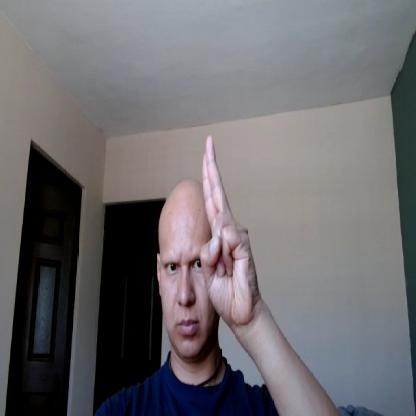U: (201, 134, 256, 326)
